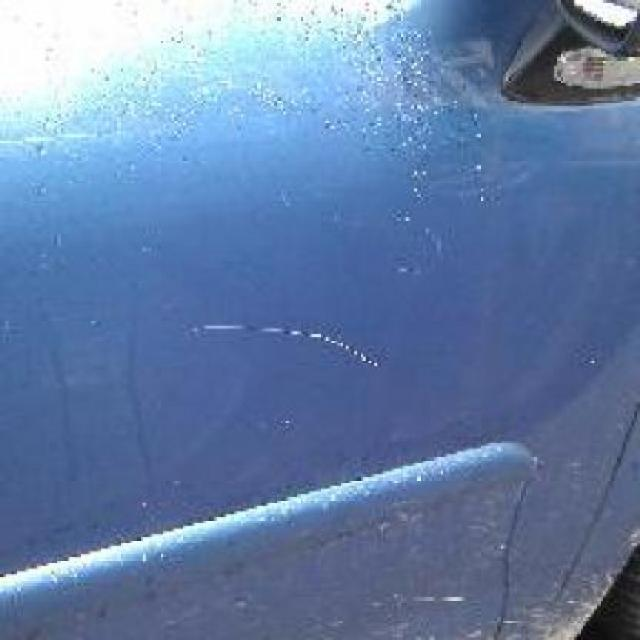dent-or-scratch: (202, 310, 388, 372)
